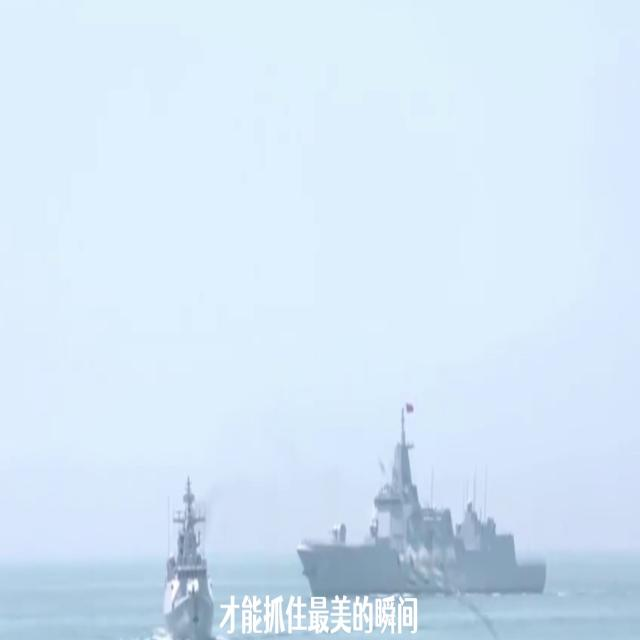navalvessels: (296, 401, 548, 598), (159, 469, 218, 640)
